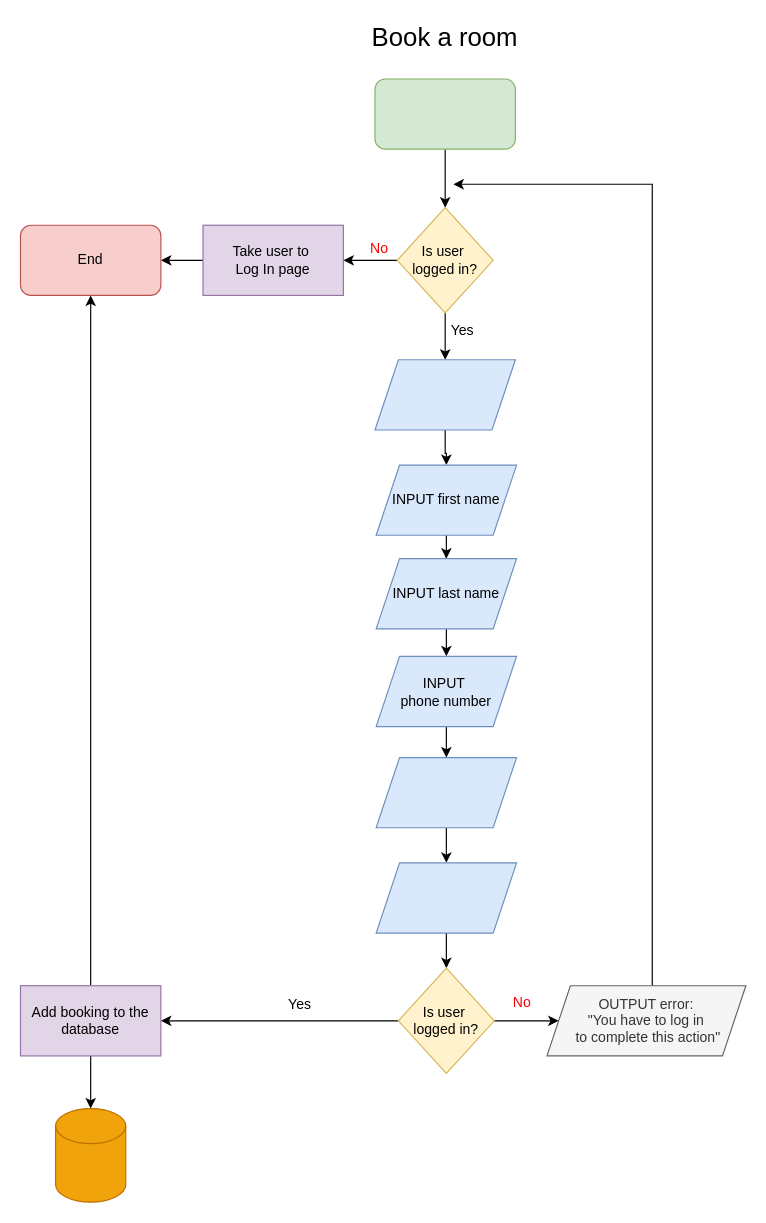
The diagram is 766 pixels wide and 1223 high, and some of its shapes have lost their labels. The shapes that lost their labels are listed below. From the top down, each one's centre as x and y in pixels, then its label:
At pixel 444 113: "Start".
At pixel 444 394: "SELECT room".
At pixel 446 792: "INPUT email".
At pixel 446 897: "SELECT date".
At pixel 90 1154: "Bookings".
